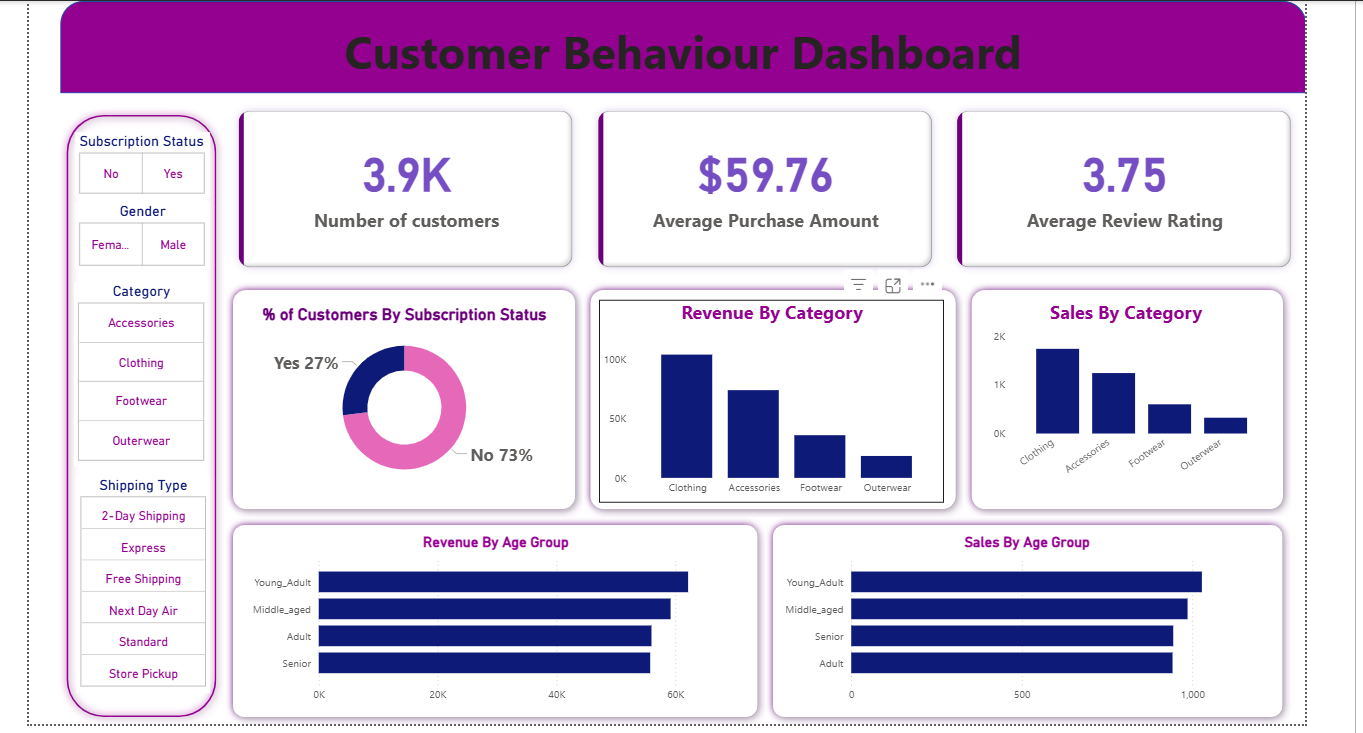

This screenshot's page, from the dashboard's own definition file:
{"tool":"powerbi","page":{"name":"Page 1","canvas":[1500,850],"ordinal":0},"visuals":[{"type":"cardVisual","fields":{"Data":["public customer.Number of customers","public customer.Average Purchase Amount","public customer.Average Review Rating"]},"box":[230.4,113,1269.6,216.9],"z":0},{"type":"shape","box":[36.1,0,1463.9,108.4],"z":1000},{"type":"textbox","box":[36.1,18.1,1463.9,90.4],"z":2000},{"type":"shape","box":[230.4,329.8,420.2,275.6],"z":3000},{"type":"donutChart","title":"% of Customers By Subscription Status","fields":{"Category":["public customer.subscription_status"],"Y":["CountNonNull(public customer.customer_id)"]},"box":[250.9,357.3,380.1,220.5],"z":4000},{"type":"shape","box":[650.9,330.3,447.3,275.6],"z":5000},{"type":"shape","box":[1098.5,330.7,383.9,275.6],"z":6000},{"type":"clusteredColumnChart","title":"Revenue By Category","fields":{"Y":["Sum(public customer.purchase_amount)"],"Category":["public customer.category"]},"box":[669,351.6,406.7,239.5],"z":7000},{"type":"clusteredColumnChart","title":"Sales By Category","fields":{"Y":["CountNonNull(public customer.customer_id)"],"Category":["public customer.category"]},"box":[1113.7,351.6,351.6,222.4],"z":8000},{"type":"shape","box":[36.1,113,194.3,984.9],"z":9000},{"type":"advancedSlicerVisual","fields":{"Values":["public customer.subscription_status"]},"box":[54.2,153.6,158.1,117.5],"z":10000},{"type":"advancedSlicerVisual","fields":{"Values":["public customer.gender"]},"box":[53.2,271.8,157.7,119.7],"z":11000},{"type":"advancedSlicerVisual","fields":{"Values":["public customer.category"]},"box":[53.2,391.5,157.7,323.1],"z":12000},{"type":"advancedSlicerVisual","fields":{"Values":["public customer.shipping_type"]},"box":[55.1,714.6,157.7,349.7],"z":13000},{"type":"shape","box":[230.6,606.5,634.4,243.8],"z":14000},{"type":"clusteredBarChart","title":"Revenue By Age Group","fields":{"Y":["Sum(public customer.purchase_amount)"],"Category":["public customer.age_group"]},"box":[252.6,625.6,591.8,207.1],"z":15000},{"type":"shape","box":[865,606.5,616.8,243.8],"z":16000},{"type":"clusteredBarChart","title":"Sales By Age Group","fields":{"Y":["CountNonNull(public customer.customer_id)"],"Category":["public customer.age_group"]},"box":[878.2,625.6,588.9,207.1],"z":17000}]}

Visuals, with their boxes in screenshot pixels (x1, y1, x2, y2):
cardVisual - public customer.Number of customers x public customer.Average Purchase Amount: (left=221, top=93, right=1304, bottom=278)
shape: (left=56, top=0, right=1304, bottom=89)
textbox: (left=56, top=12, right=1304, bottom=89)
shape: (left=221, top=278, right=579, bottom=513)
"% of Customers By Subscription Status" donutChart: (left=239, top=301, right=563, bottom=489)
shape: (left=580, top=278, right=961, bottom=513)
shape: (left=961, top=278, right=1289, bottom=513)
"Revenue By Category" clusteredColumnChart: (left=595, top=296, right=942, bottom=500)
"Sales By Category" clusteredColumnChart: (left=974, top=296, right=1274, bottom=486)
shape: (left=56, top=93, right=221, bottom=732)
advancedSlicerVisual - public customer.subscription_status: (left=71, top=127, right=206, bottom=228)
advancedSlicerVisual - public customer.gender: (left=70, top=228, right=205, bottom=330)
advancedSlicerVisual - public customer.category: (left=70, top=330, right=205, bottom=606)
advancedSlicerVisual - public customer.shipping_type: (left=72, top=606, right=206, bottom=732)
shape: (left=221, top=513, right=762, bottom=721)
"Revenue By Age Group" clusteredBarChart: (left=240, top=530, right=745, bottom=706)
shape: (left=762, top=513, right=1288, bottom=721)
"Sales By Age Group" clusteredBarChart: (left=773, top=530, right=1275, bottom=706)
